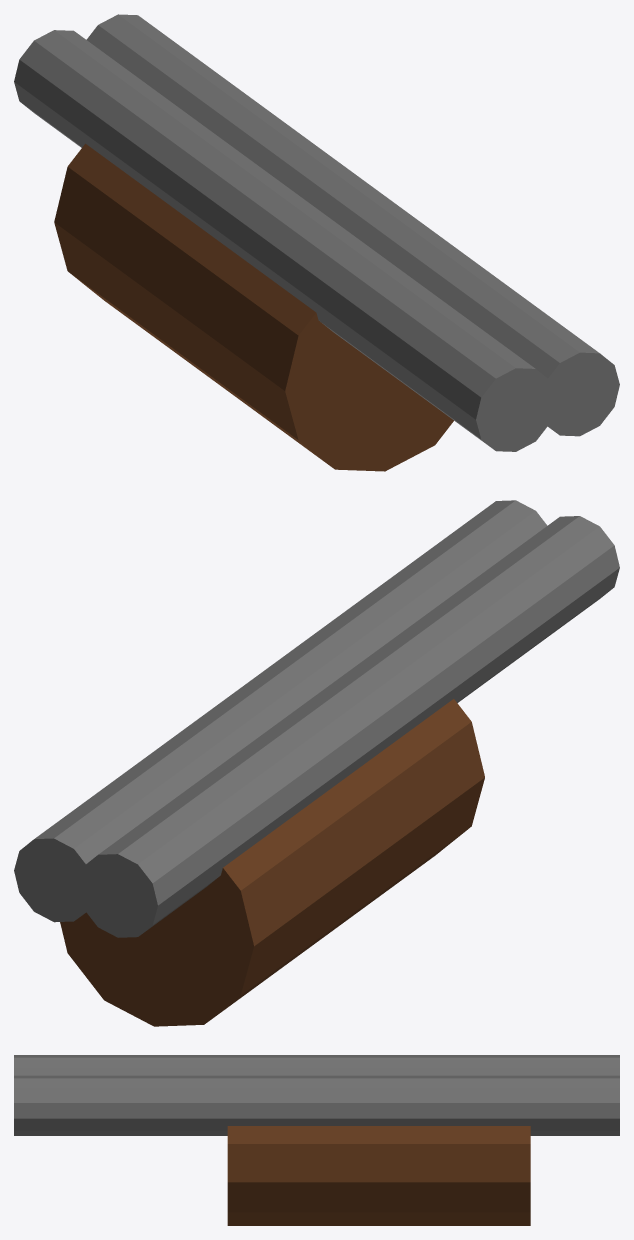
File: Shotgun.fbx
The picture shows the model from 3 angles, top to bottom: view 1: azimuth 30°, elevation 25°; view 2: azimuth 150°, elevation 25°; view 3: azimuth 270°, elevation 25°; orthographic projection. The views are drawn at different scales.
Visible parts, largest first — view 1: Cylinder.002; view 2: Cylinder.002; view 3: Cylinder.002.
Boxes of the visible parts, left/top/right/bottom form: Cylinder.002: left=14, top=14, right=619, bottom=471; Cylinder.002: left=14, top=500, right=619, bottom=1026; Cylinder.002: left=14, top=1055, right=619, bottom=1225.
Size of the model in its own units: 50 by 55 by 200.
